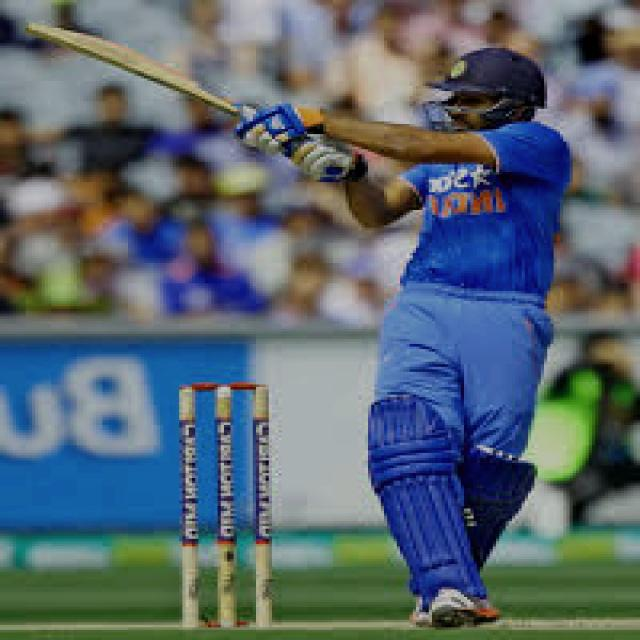toe: (9, 18, 58, 37)
